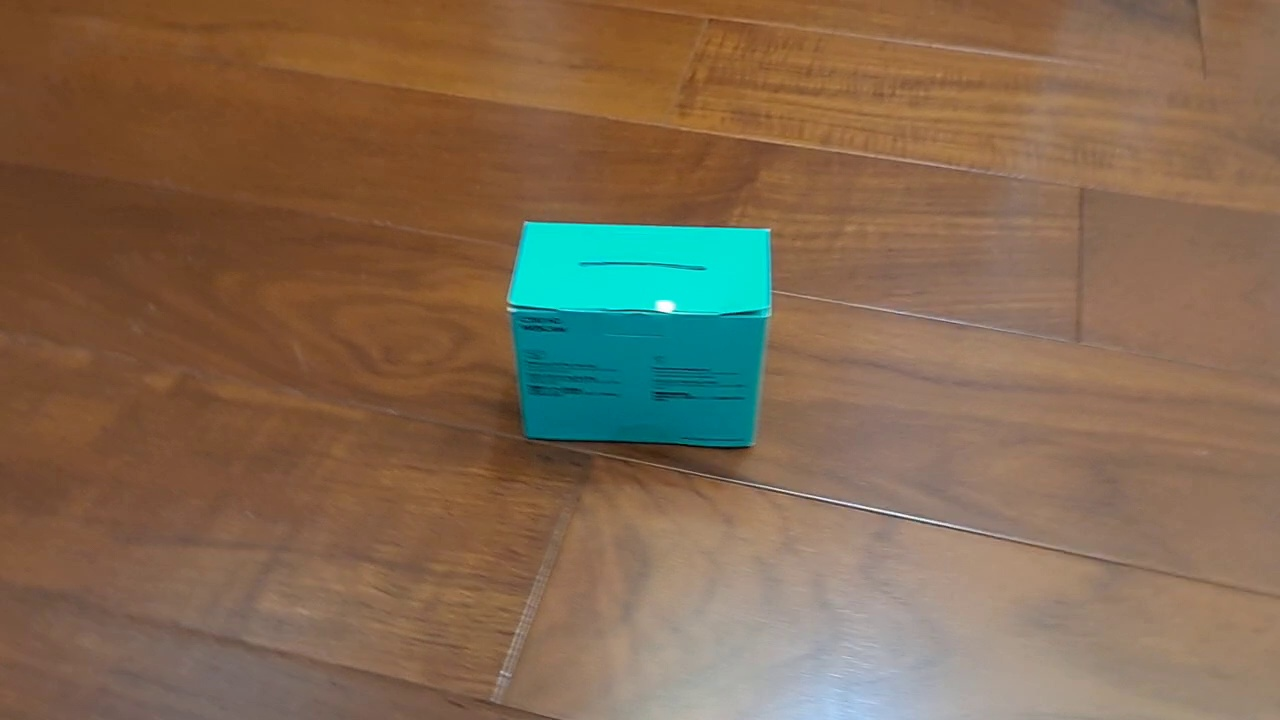webcam: (503, 218, 776, 453)
